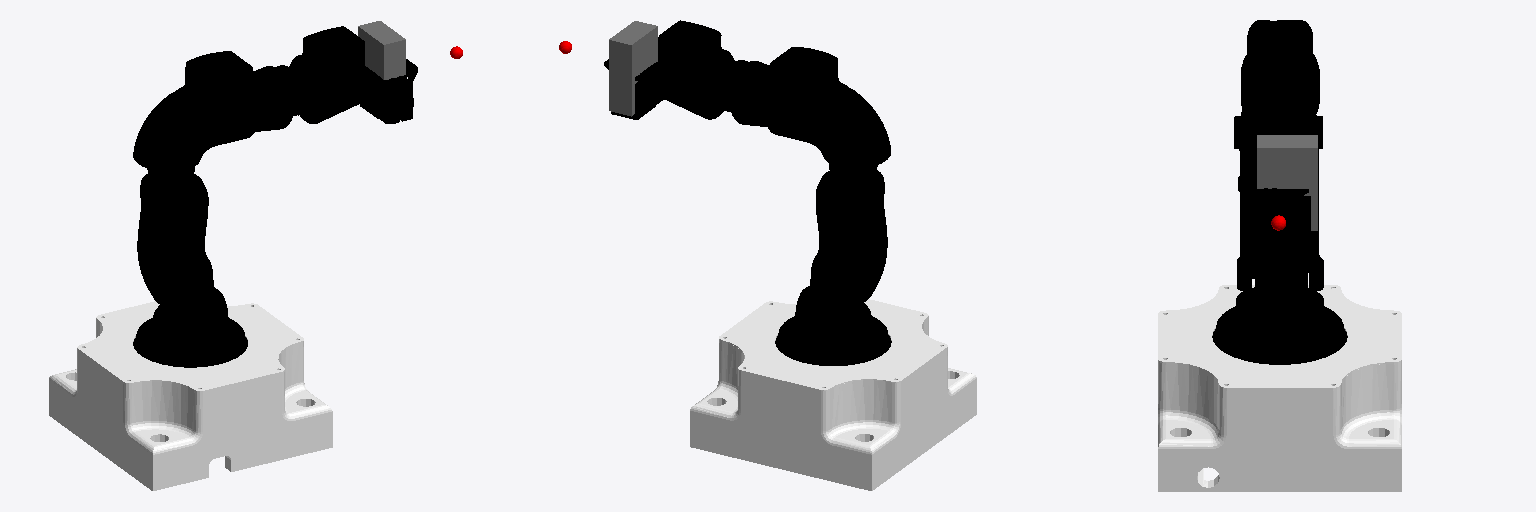
The robot description file, URDF, robot "mcad_robot_r2":
<?xml version="1.0" ?>
<!--
  Standalone URDF for PyBullet RL Training
  Generated from mcad_robot_r2 xacro files (prefix = r2)
  6DOF arm + 1DOF gripper (joint7) + tool0 end-effector
  Gripper mimic joints EXCLUDED (PyBullet doesn't support mimic natively)
-->
<robot name="mcad_robot_r2">

  <!-- ===== WORLD FIXED BASE ===== -->
  <link name="world"/>

  <link name="r2_base_footprint"/>
  <joint name="r2_world_joint" type="fixed">
    <parent link="world"/>
    <child link="r2_base_footprint"/>
    <origin xyz="0 0 0" rpy="0 0 0"/>
  </joint>

  <!-- ===== BASE LINK ===== -->
  <link name="r2_base_link">
    <inertial>
      <origin xyz="-0.00121 0.00043 0.03746" rpy="0 0 0"/>
      <mass value="1.3087"/>
      <inertia ixx="0.0035" ixy="-5.75e-06" ixz="-1.23e-05"
               iyy="0.0035" iyz="1.66e-05" izz="0.0060"/>
    </inertial>
    <visual>
      <origin xyz="0 0 0" rpy="0 0 0"/>
      <geometry><mesh filename="meshes/base_link.STL" scale="1 1 1"/></geometry>
      <material name="white"><color rgba="1 1 1 1"/></material>
    </visual>
    <collision>
      <origin xyz="0 0 0.025" rpy="0 0 0"/>
      <geometry><cylinder radius="0.05" length="0.05"/></geometry>
    </collision>
  </link>
  <joint name="r2_base_joint" type="fixed">
    <parent link="r2_base_footprint"/>
    <child link="r2_base_link"/>
    <origin xyz="0 0 0" rpy="0 0 0"/>
  </joint>

  <!-- ===== JOINT 1: Base Rotation (Z-axis) ===== -->
  <link name="r2_link1">
    <inertial>
      <origin xyz="0.00022 -0.00015 0.01931" rpy="0 0 0"/>
      <mass value="0.6955"/>
      <inertia ixx="0.0007" ixy="-1.35e-07" ixz="-5.36e-06"
               iyy="0.0007" iyz="4.74e-06" izz="0.0010"/>
    </inertial>
    <visual>
      <origin xyz="0 0 0" rpy="0 0 0"/>
      <geometry><mesh filename="meshes/link_1.STL" scale="1 1 1"/></geometry>
      <material name="black"><color rgba="0 0 0 1"/></material>
    </visual>
    <collision>
      <origin xyz="0 0 0.015" rpy="0 0 0"/>
      <geometry><cylinder radius="0.035" length="0.04"/></geometry>
    </collision>
  </link>
  <joint name="r2_joint1" type="revolute">
    <parent link="r2_base_link"/>
    <child link="r2_link1"/>
    <origin xyz="0 0 0.0546" rpy="0 0 0"/>
    <axis xyz="0 0 1"/>
    <limit lower="-1.57" upper="1.57" effort="3.0" velocity="2.0"/>
    <dynamics damping="0.05" friction="0.1"/>
  </joint>

  <!-- ===== JOINT 2: Shoulder (Y-axis) ===== -->
  <link name="r2_link2">
    <inertial>
      <origin xyz="-0.0161 -0.0193 0.0622" rpy="0 0 0"/>
      <mass value="0.3232"/>
      <inertia ixx="0.00042" ixy="-2.58e-07" ixz="1.21e-05"
               iyy="0.00042" iyz="6.46e-06" izz="9.52e-05"/>
    </inertial>
    <visual>
      <origin xyz="0 0 0" rpy="0 0 0"/>
      <geometry><mesh filename="meshes/link_2.STL" scale="1 1 1"/></geometry>
      <material name="black"/>
    </visual>
    <collision>
      <origin xyz="-0.01 0 0.055" rpy="0 0 0"/>
      <geometry><cylinder radius="0.025" length="0.11"/></geometry>
    </collision>
  </link>
  <joint name="r2_joint2" type="revolute">
    <parent link="r2_link1"/>
    <child link="r2_link2"/>
    <origin xyz="0 0.018625 0.0654" rpy="0 0 0"/>
    <axis xyz="0 1 0"/>
    <limit lower="-0.5236" upper="1.2217" effort="3.0" velocity="2.0"/>
    <dynamics damping="0.05" friction="0.1"/>
  </joint>

  <!-- ===== JOINT 3: Elbow (Y-axis) ===== -->
  <link name="r2_link3">
    <inertial>
      <origin xyz="0.0334 -0.0186 0.0358" rpy="0 0 0"/>
      <mass value="0.2721"/>
      <inertia ixx="0.00012" ixy="3.64e-07" ixz="-4.33e-05"
               iyy="0.00021" iyz="4.15e-07" izz="0.00017"/>
    </inertial>
    <visual>
      <origin xyz="0 0 0" rpy="0 0 0"/>
      <geometry><mesh filename="meshes/link_3.STL" scale="1 1 1"/></geometry>
      <material name="black"/>
    </visual>
    <collision>
      <origin xyz="0.035 -0.01 0.02" rpy="0 0 0"/>
      <geometry><box size="0.08 0.03 0.05"/></geometry>
    </collision>
  </link>
  <joint name="r2_joint3" type="revolute">
    <parent link="r2_link2"/>
    <child link="r2_link3"/>
    <origin xyz="-0.019837 0.0002 0.11485" rpy="0 0 0"/>
    <axis xyz="0 1 0"/>
    <limit lower="-0.8378" upper="0.5236" effort="3.0" velocity="2.0"/>
    <dynamics damping="0.05" friction="0.1"/>
  </joint>

  <!-- ===== JOINT 4: Forearm Roll (X-axis) ===== -->
  <link name="r2_link4">
    <inertial>
      <origin xyz="0.0268 0.0014 -7.26e-05" rpy="0 0 0"/>
      <mass value="0.1365"/>
      <inertia ixx="2.64e-05" ixy="-8.97e-07" ixz="-8.69e-08"
               iyy="4.12e-05" iyz="1.59e-08" izz="4.35e-05"/>
    </inertial>
    <visual>
      <origin xyz="0 0 0" rpy="0 0 0"/>
      <geometry><mesh filename="meshes/link_4.STL" scale="1 1 1"/></geometry>
      <material name="black"/>
    </visual>
    <collision>
      <origin xyz="0.023 0 0" rpy="0 1.5708 0"/>
      <geometry><cylinder radius="0.02" length="0.046"/></geometry>
    </collision>
  </link>
  <joint name="r2_joint4" type="revolute">
    <parent link="r2_link3"/>
    <child link="r2_link4"/>
    <origin xyz="0.068886 -0.019644 0.031853" rpy="0 0 0"/>
    <axis xyz="1 0 0"/>
    <limit lower="-1.58" upper="1.58" effort="3.0" velocity="2.0"/>
    <dynamics damping="0.05" friction="0.1"/>
  </joint>

  <!-- ===== JOINT 5: Wrist Pitch (Y-axis) ===== -->
  <link name="r2_link5">
    <inertial>
      <origin xyz="0.0275 0.0185 0.0091" rpy="0 0 0"/>
      <mass value="0.1656"/>
      <inertia ixx="6.44e-05" ixy="3.09e-08" ixz="-3.94e-06"
               iyy="6.59e-05" iyz="1.85e-07" izz="4.46e-05"/>
    </inertial>
    <visual>
      <origin xyz="0 0 0" rpy="0 0 0"/>
      <geometry><mesh filename="meshes/link_5.STL" scale="1 1 1"/></geometry>
      <material name="black"/>
    </visual>
    <collision>
      <origin xyz="0.025 0.01 0" rpy="0 1.5708 0"/>
      <geometry><cylinder radius="0.02" length="0.05"/></geometry>
    </collision>
  </link>
  <joint name="r2_joint5" type="revolute">
    <parent link="r2_link4"/>
    <child link="r2_link5"/>
    <origin xyz="0.04612 -0.01862 0" rpy="0 0 0"/>
    <axis xyz="0 1 0"/>
    <limit lower="-0.85" upper="0.85" effort="3.0" velocity="2.0"/>
    <dynamics damping="0.05" friction="0.1"/>
  </joint>

  <!-- ===== JOINT 6: Wrist Roll (X-axis) ===== -->
  <link name="r2_link6">
    <inertial>
      <origin xyz="0.0259 -0.0002 -0.0199" rpy="0 0 0"/>
      <mass value="0.1046"/>
      <inertia ixx="2.72e-05" ixy="1.71e-07" ixz="1.60e-06"
               iyy="1.78e-05" iyz="1.69e-07" izz="2.37e-05"/>
    </inertial>
    <visual>
      <origin xyz="0 0 0" rpy="0 0 0"/>
      <geometry><mesh filename="meshes/link_6.STL" scale="1 1 1"/></geometry>
      <material name="black"/>
    </visual>
    <collision>
      <origin xyz="0.025 0 -0.01" rpy="0 1.5708 0"/>
      <geometry><cylinder radius="0.018" length="0.05"/></geometry>
    </collision>
  </link>
  <joint name="r2_joint6" type="revolute">
    <parent link="r2_link5"/>
    <child link="r2_link6"/>
    <origin xyz="0.05089 0.01862 0.00031" rpy="0 0 0"/>
    <axis xyz="1 0 0"/>
    <limit lower="-1.58" upper="1.58" effort="3.0" velocity="2.0"/>
    <dynamics damping="0.05" friction="0.1"/>
  </joint>

  <!-- ===== TOOL LINK (fixed to link6) ===== -->
  <link name="r2_tool_link">
    <inertial>
      <mass value="0.0001"/>
      <origin xyz="0 0 0" rpy="0 0 0"/>
      <inertia ixx="1e-6" ixy="0" ixz="0" iyy="1e-6" iyz="0" izz="1e-6"/>
    </inertial>
  </link>
  <joint name="r2_tool_link_joint" type="fixed">
    <parent link="r2_link6"/>
    <child link="r2_tool_link"/>
    <origin xyz="0 0 0" rpy="0 0 0"/>
  </joint>

  <!-- ===== TOOL0 / TCP (Tool Center Point) ===== -->
  <link name="r2_tool0">
    <visual>
      <geometry><sphere radius="0.005"/></geometry>
      <material name="red"><color rgba="1 0 0 1"/></material>
    </visual>
    <inertial>
      <mass value="0.0001"/>
      <origin xyz="0 0 0" rpy="0 0 0"/>
      <inertia ixx="1e-7" ixy="0" ixz="0" iyy="1e-7" iyz="0" izz="1e-7"/>
    </inertial>
  </link>
  <joint name="r2_tool0_fixed_joint" type="fixed">
    <parent link="r2_tool_link"/>
    <child link="r2_tool0"/>
    <origin xyz="0.09 0 0" rpy="0 0 0"/>
  </joint>

  <!-- ===== JOINT 7: Gripper (Y-axis) ===== -->
  <link name="r2_gripper_base_link">
    <inertial>
      <mass value="0.05"/>
      <origin xyz="0.02 0 0" rpy="0 0 0"/>
      <inertia ixx="1e-5" ixy="0" ixz="0" iyy="1e-5" iyz="0" izz="1e-5"/>
    </inertial>
    <visual>
      <origin xyz="0.02 0 0" rpy="0 0 0"/>
      <geometry><box size="0.04 0.06 0.02"/></geometry>
      <material name="grey"><color rgba="0.5 0.5 0.5 1"/></material>
    </visual>
    <collision>
      <origin xyz="0.02 0 0" rpy="0 0 0"/>
      <geometry><box size="0.04 0.06 0.02"/></geometry>
    </collision>
  </link>
  <joint name="r2_joint7" type="revolute">
    <parent link="r2_tool_link"/>
    <child link="r2_gripper_base_link"/>
    <origin xyz="0.027 -0.014 -0.00063333" rpy="1.570 0 1.57"/>
    <axis xyz="0 1 0"/>
    <limit lower="-0.65" upper="0.65" effort="1.5" velocity="2"/>
    <dynamics damping="0.1" friction="0.05"/>
  </joint>

</robot>

--- What the picture shows (computed from the rendered views, not written in the file) ---
Views: 3 orthographic renders of the robot side by side, from view 1: azimuth 30°, elevation 25°; view 2: azimuth 150°, elevation 25°; view 3: azimuth 270°, elevation 25°.
Model mcad_robot_r2 with 12 links and 11 joints (7 revolute, 4 fixed), rooted at world, posed all joints at 0.
Visible links, largest first — view 1: r2_base_link, r2_link3, r2_link2, r2_link1, r2_link5, r2_link4, r2_link6, r2_gripper_base_link; view 2: r2_base_link, r2_link3, r2_link2, r2_link1, r2_link5, r2_gripper_base_link, r2_link4, r2_link6; view 3: r2_base_link, r2_link1, r2_link3, r2_link5, r2_gripper_base_link, r2_link6, r2_link2, r2_link4.
Link boxes in pixels (x1,y1,x2,y2): r2_base_link: [49, 301, 332, 490]; r2_link3: [133, 51, 257, 183]; r2_link2: [137, 161, 219, 315]; r2_link1: [133, 288, 247, 367]; r2_link5: [276, 26, 366, 123]; r2_link4: [253, 66, 316, 131]; r2_link6: [360, 59, 417, 123]; r2_gripper_base_link: [358, 21, 405, 79]; r2_base_link: [690, 299, 976, 490]; r2_link3: [765, 47, 890, 180]; r2_link2: [804, 158, 887, 313]; r2_link1: [775, 286, 891, 365]; r2_link5: [656, 20, 747, 119]; r2_gripper_base_link: [609, 21, 657, 116]; r2_link4: [707, 61, 769, 126]; r2_link6: [604, 59, 663, 119]; r2_base_link: [1158, 285, 1401, 491]; r2_link1: [1212, 263, 1347, 364]; r2_link3: [1241, 20, 1319, 113]; r2_link5: [1234, 88, 1322, 172]; r2_gripper_base_link: [1257, 135, 1317, 230]; r2_link6: [1238, 170, 1310, 239]; r2_link2: [1237, 150, 1323, 290]; r2_link4: [1241, 74, 1316, 115].
Bounding box of the posed robot: 0.3211 × 0.16 × 0.3067 m (x, y, z).
Meshes: 7 distinct files referenced, 7 mesh visuals loaded (7 binary STL).
